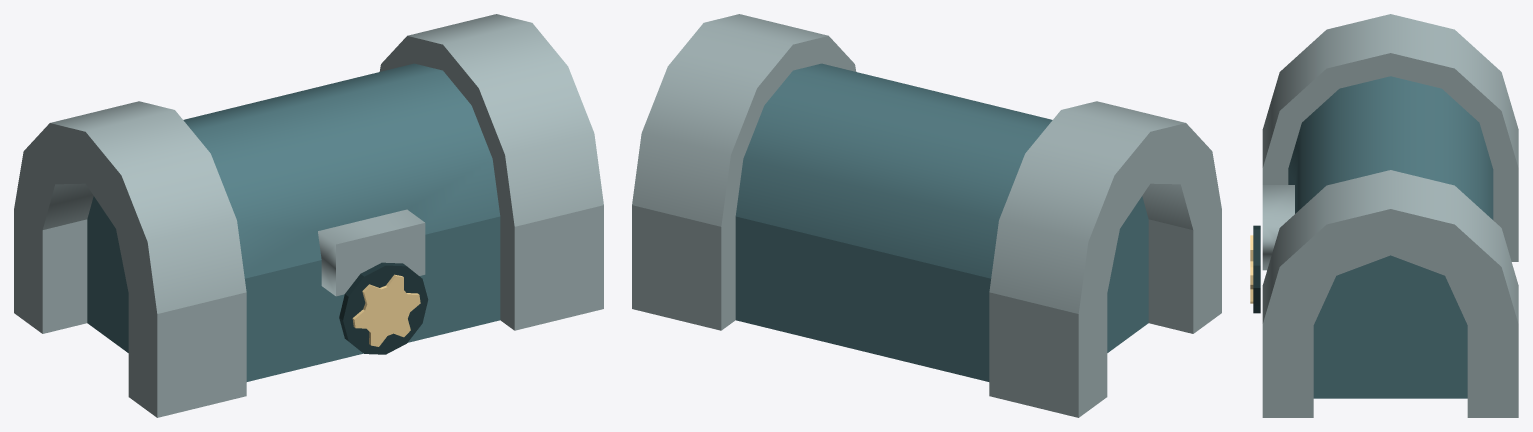
Rendered from tools.glb.
3 renders of one model, left to right at view 1: azimuth 30°, elevation 25°; view 2: azimuth 150°, elevation 25°; view 3: azimuth 270°, elevation 25°, orthographic. The views are drawn at different scales.
Parts seen in each view (by area): view 1: lid, chest, category badge, emblem; view 2: lid, chest; view 3: lid, chest, category badge, emblem.
Boxes of the visible parts, x1,y1,x2,y2 form: lid: (14, 14, 603, 313); chest: (14, 205, 603, 417); category badge: (339, 262, 428, 354); emblem: (352, 274, 420, 346); lid: (632, 14, 1221, 313); chest: (632, 205, 1221, 417); lid: (1262, 14, 1518, 324); chest: (1262, 169, 1518, 417); category badge: (1253, 225, 1260, 313); emblem: (1250, 235, 1253, 303).
Size of the model in its own units: 2.29 by 1.15 by 1.34.
